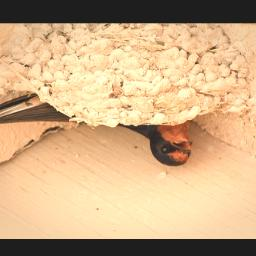Swallow: (0, 85, 195, 169)
